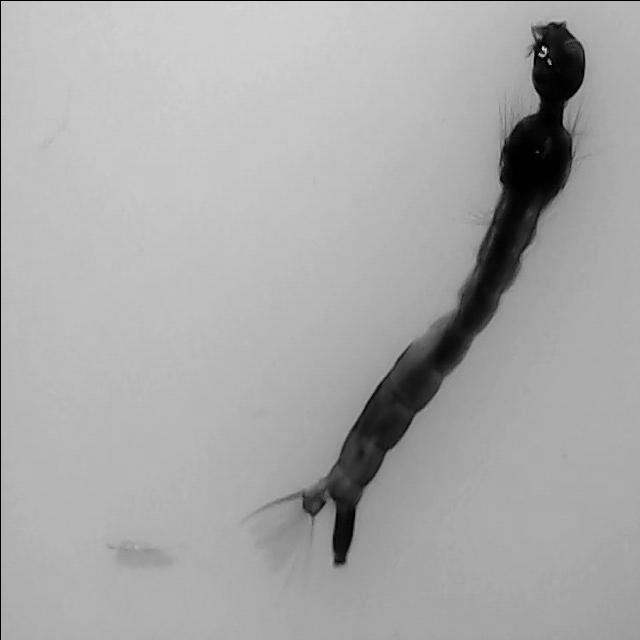larvas: (305, 20, 585, 562)
